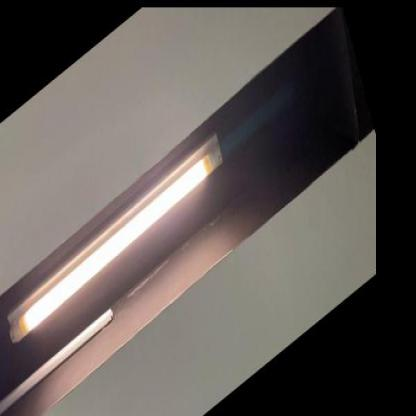light_on: (0, 108, 242, 366)
